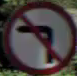Don't turn left: (8, 10, 65, 65)
